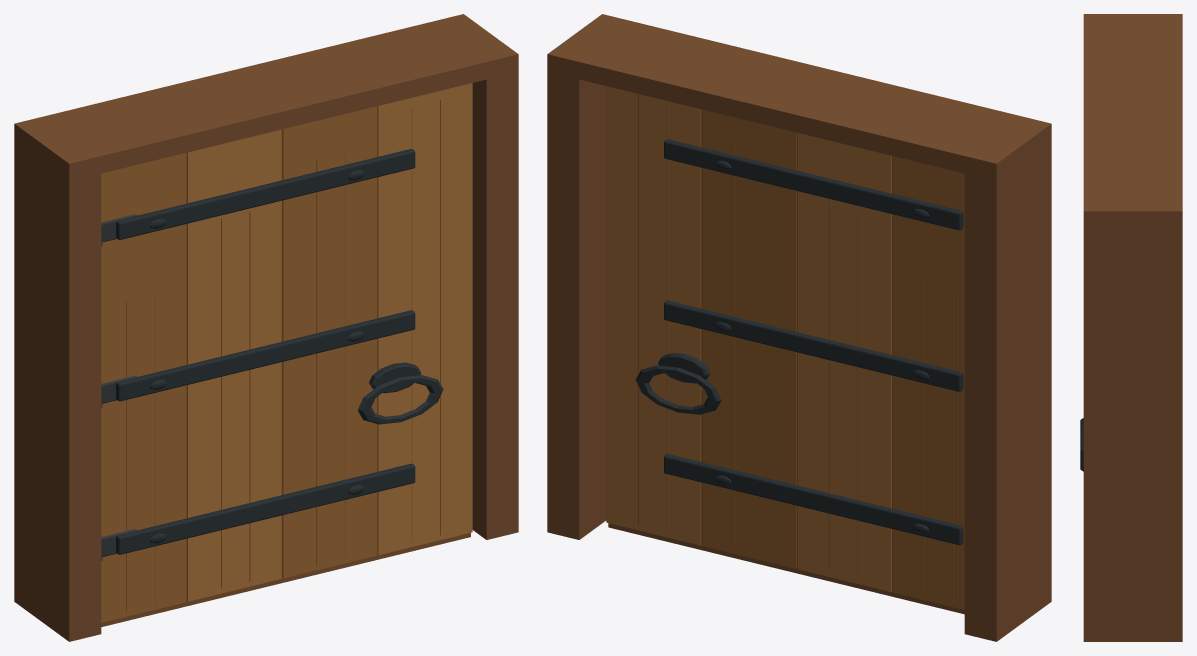
Rendered from interior-doors.glb.
3 renders of one model, left to right at view 1: azimuth 30°, elevation 25°; view 2: azimuth 150°, elevation 25°; view 3: azimuth 270°, elevation 25°, orthographic. The views are drawn at different scales.
Visible parts, largest first — view 1: Interior oak hinge jamb, Right castle door plank 4, Right castle door plank 2, Right castle door plank 3, Interior oak header, Right castle door plank 1, Interior oak latch jamb, Right castle door iron strap 1 front, Right castle door iron strap 2 front, Right castle door iron strap 3 front, Right castle door dark backing, Right castle door ring handle.001 (+1 smaller); view 2: Interior oak hinge jamb, Right castle door plank 4, Right castle door plank 2, Right castle door plank 3, Interior oak header, Right castle door plank 1, Interior oak latch jamb, Right castle door iron strap 2 back, Right castle door iron strap 1 back, Right castle door iron strap 3 back, Right castle door dark backing, Right castle door ring handle (+1 smaller); view 3: Interior oak latch jamb, Interior oak header, Right castle door ring handle.001.
Part boxes in pixels (x1,y1,x2,y2): Interior oak hinge jamb: [14, 141, 101, 641]; Right castle door plank 4: [377, 83, 472, 555]; Right castle door plank 2: [187, 129, 281, 601]; Right castle door plank 3: [282, 106, 376, 578]; Interior oak header: [14, 14, 518, 181]; Right castle door plank 1: [101, 153, 186, 622]; Interior oak latch jamb: [472, 72, 518, 539]; Right castle door iron strap 1 front: [116, 463, 415, 554]; Right castle door iron strap 2 front: [116, 310, 415, 401]; Right castle door iron strap 3 front: [116, 149, 415, 239]; Right castle door dark backing: [101, 106, 470, 626]; Right castle door ring handle.001: [357, 375, 443, 424]; Interior oak hinge jamb: [964, 141, 1051, 641]; Right castle door plank 4: [606, 86, 701, 545]; Right castle door plank 2: [797, 133, 891, 591]; Right castle door plank 3: [702, 109, 796, 568]; Interior oak header: [547, 14, 1051, 181]; Right castle door plank 1: [892, 156, 964, 609]; Interior oak latch jamb: [547, 72, 606, 539]; Right castle door iron strap 2 back: [664, 300, 963, 391]; Right castle door iron strap 1 back: [664, 454, 963, 545]; Right castle door iron strap 3 back: [664, 139, 963, 230]; Right castle door dark backing: [608, 109, 964, 614]; Right castle door ring handle: [635, 365, 721, 414]; Interior oak latch jamb: [1083, 227, 1182, 641]; Interior oak header: [1083, 14, 1182, 227]; Right castle door ring handle.001: [1080, 418, 1083, 471].
Bounding box in the file's own units: 2.36 × 2.43 × 0.5156.
